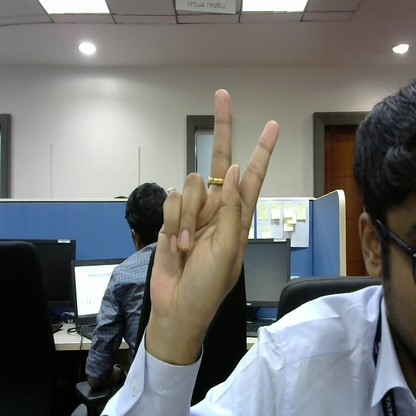k: (144, 77, 282, 336)
